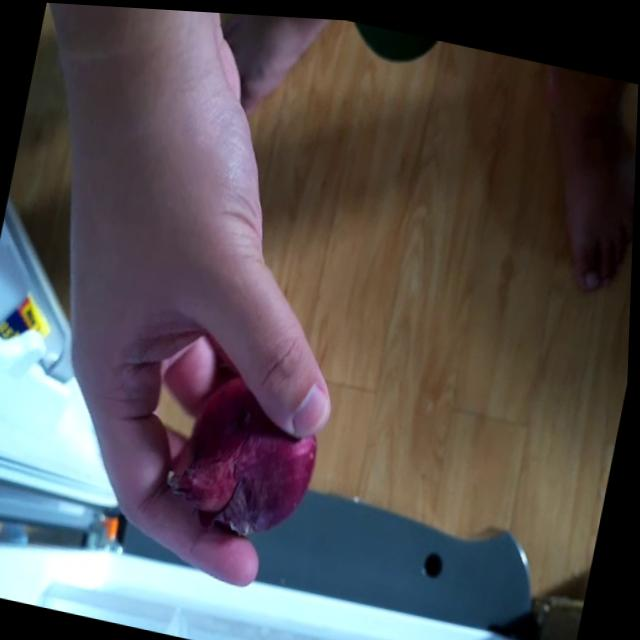onion: (163, 367, 336, 556)
